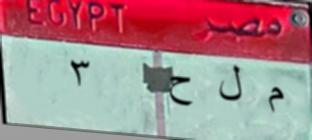3: (66, 58, 96, 90)
7aa: (167, 70, 198, 112)
laam: (214, 64, 247, 107)
meem: (262, 78, 289, 118)
